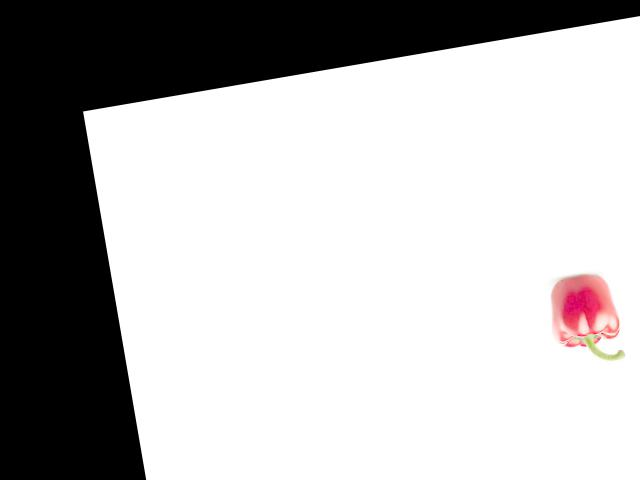bell_pepper: (545, 269, 628, 370)
